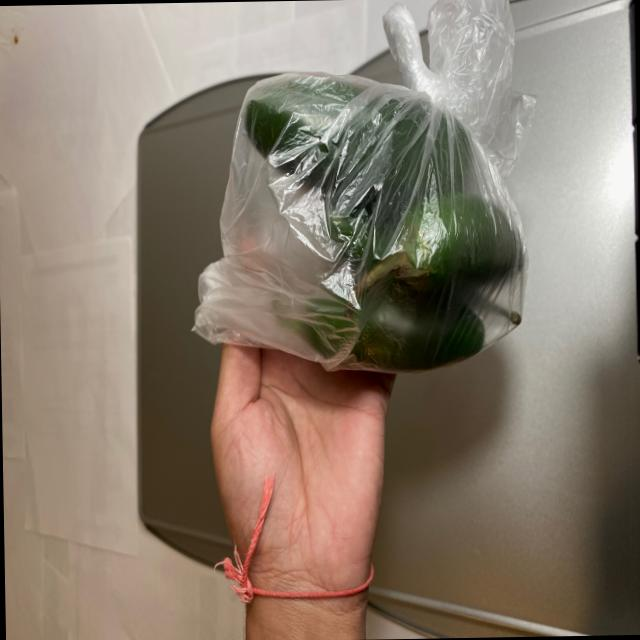chilli: (240, 76, 530, 376)
